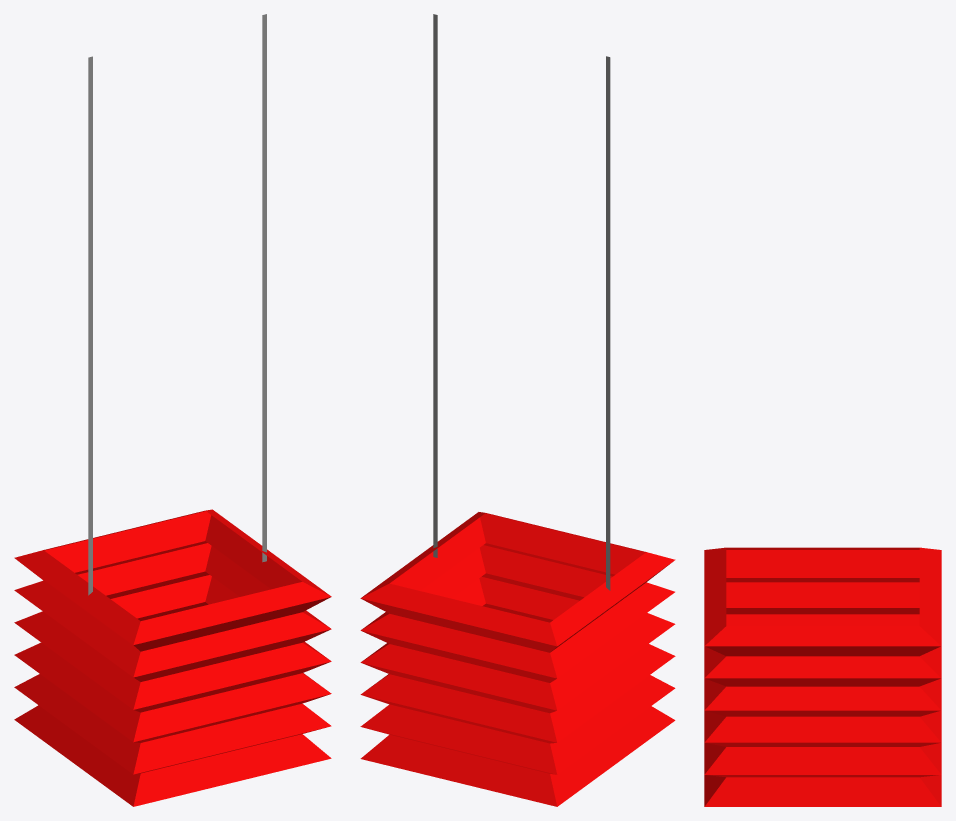
Rendered from Paperlight_03.glb.
The picture shows the model from 3 angles, left to right: view 1: azimuth 30°, elevation 25°; view 2: azimuth 150°, elevation 25°; view 3: azimuth 270°, elevation 25°; orthographic projection.
Parts seen in each view (by area): view 1: paperlight_03; view 2: paperlight_03; view 3: paperlight_03.
Boxes of the visible parts, left/top/right/bottom form: paperlight_03: left=14, top=14, right=331, bottom=806; paperlight_03: left=360, top=14, right=675, bottom=806; paperlight_03: left=704, top=547, right=941, bottom=806.
Size of what is drawn, in the model's own units: 0.6031 by 2.05 by 0.6278.
Materials: 1 (1 with a texture image).
